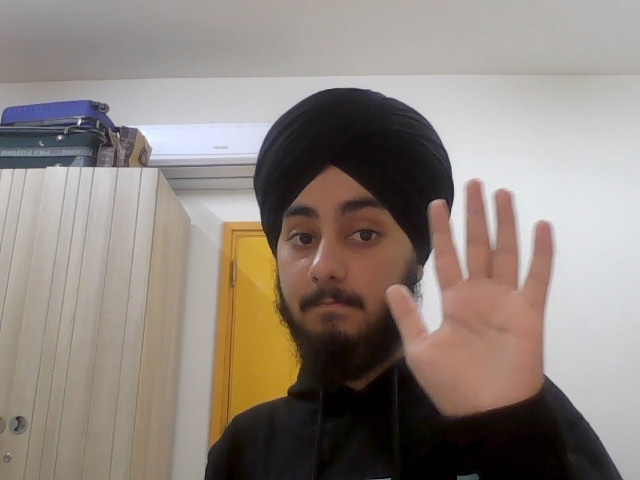Hello: (384, 181, 559, 411)
